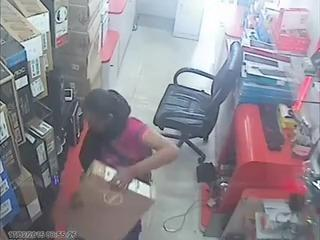normal: (0, 1, 320, 240)
